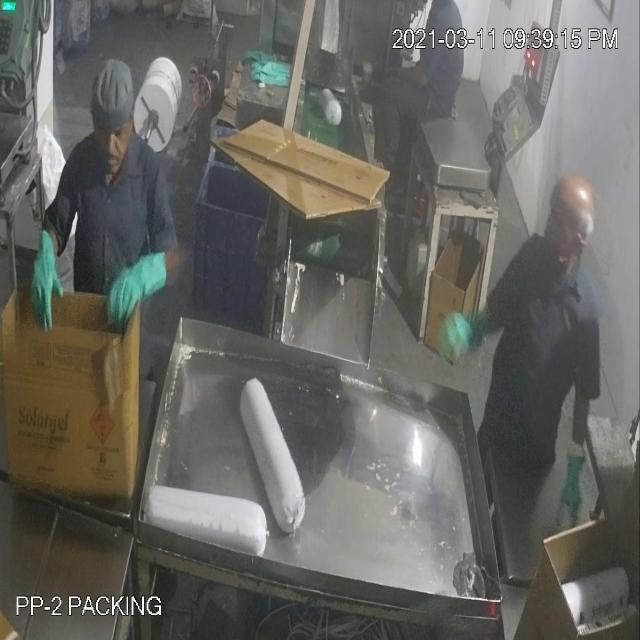Gloves: (49, 78, 139, 282)
